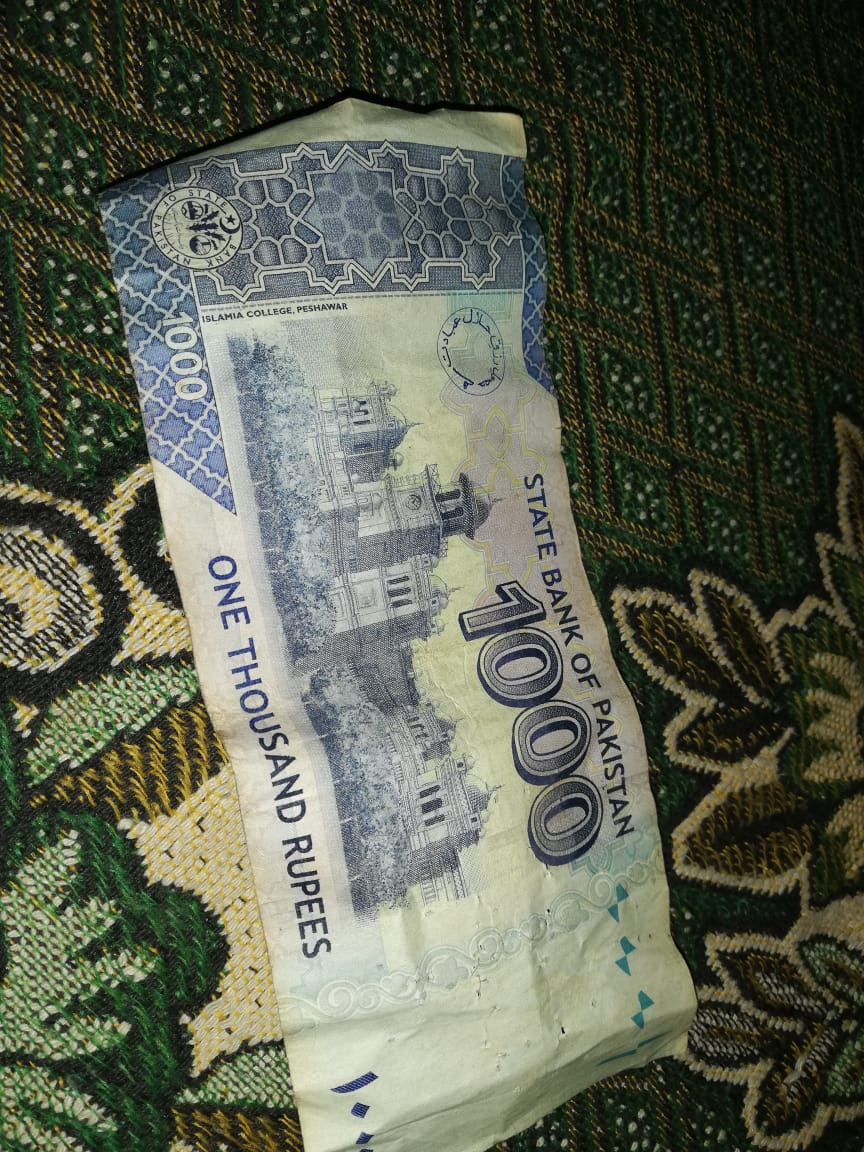1000 rupee: (79, 66, 763, 1152)
